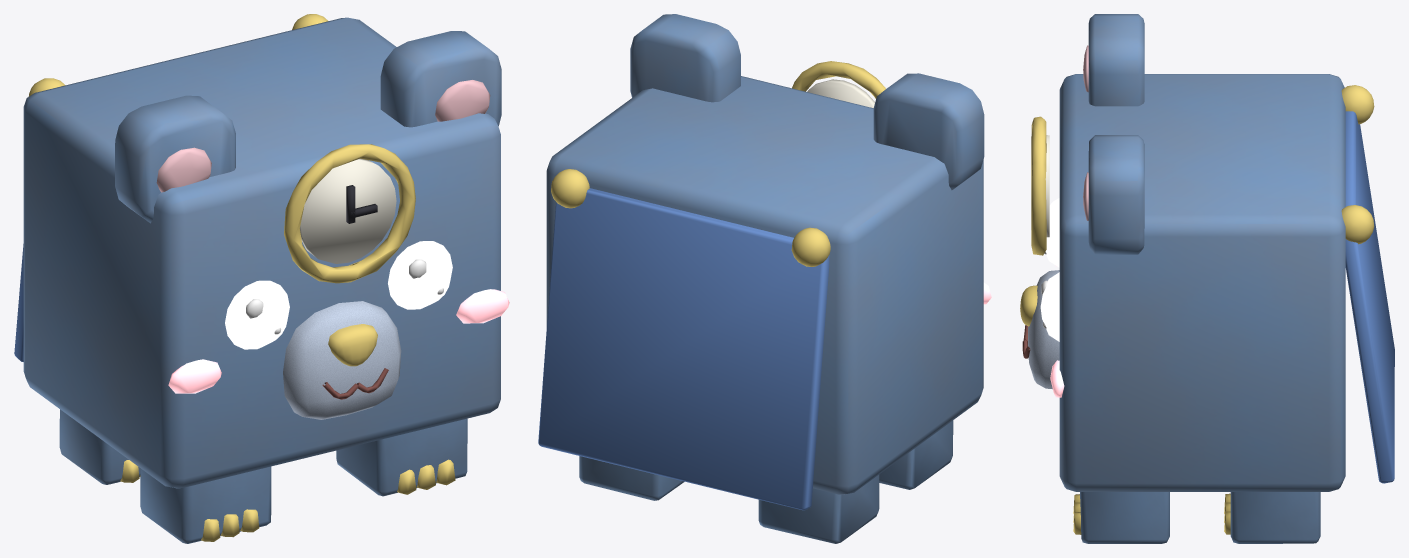
File: Pet_Chronos.fbx
The picture shows the model from 3 angles, left to right: view 1: azimuth 30°, elevation 25°; view 2: azimuth 150°, elevation 25°; view 3: azimuth 270°, elevation 25°; orthographic projection. The views are drawn at different scales.
Parts seen in each view (by area): view 1: Pet_Chronos_body, Pet_Chronos_ears, Pet_Chronos_feet, Pet_Chronos_muzzle, Pet_Chronos_acc_clock_face, Pet_Chronos_eyes, Pet_Chronos_acc_clock_ring, Pet_Chronos, Pet_Chronos_toes, Pet_Chronos_cute_innerear_-1, Pet_Chronos_nose, Pet_Chronos_cute_blush_-1 (+1 smaller); view 2: Pet_Chronos_body, Pet_Chronos_acc_cape, Pet_Chronos_ears, Pet_Chronos_feet, Pet_Chronos_acc_clock_ring, Pet_Chronos_acc_clasp-1, Pet_Chronos_acc_clasp1, Pet_Chronos_acc_clock_face; view 3: Pet_Chronos_body, Pet_Chronos_ears, Pet_Chronos_acc_cape, Pet_Chronos_feet, Pet_Chronos_acc_clock_ring, Pet_Chronos_muzzle, Pet_Chronos_eyes, Pet_Chronos_acc_clasp1, Pet_Chronos_acc_clasp-1, Pet_Chronos, Pet_Chronos_toes, Pet_Chronos_nose.
Part boxes in pixels (x1,y1,x2,y2): Pet_Chronos_body: [23, 17, 500, 488]; Pet_Chronos_ears: [115, 31, 501, 223]; Pet_Chronos_feet: [59, 409, 467, 543]; Pet_Chronos_muzzle: [283, 301, 401, 419]; Pet_Chronos_acc_clock_face: [300, 158, 396, 263]; Pet_Chronos_eyes: [225, 241, 452, 349]; Pet_Chronos_acc_clock_ring: [284, 144, 415, 283]; Pet_Chronos: [409, 80, 509, 323]; Pet_Chronos_toes: [120, 459, 455, 541]; Pet_Chronos_cute_innerear_-1: [156, 147, 211, 192]; Pet_Chronos_nose: [328, 324, 377, 366]; Pet_Chronos_cute_blush_-1: [168, 359, 221, 393]; Pet_Chronos_body: [546, 76, 983, 494]; Pet_Chronos_acc_cape: [538, 188, 829, 510]; Pet_Chronos_ears: [630, 14, 984, 190]; Pet_Chronos_feet: [579, 420, 953, 543]; Pet_Chronos_acc_clock_ring: [792, 61, 885, 98]; Pet_Chronos_acc_clasp-1: [791, 227, 830, 266]; Pet_Chronos_acc_clasp1: [551, 169, 589, 208]; Pet_Chronos_acc_clock_face: [807, 79, 875, 107]; Pet_Chronos_body: [1059, 74, 1345, 491]; Pet_Chronos_ears: [1088, 14, 1144, 254]; Pet_Chronos_acc_cape: [1345, 111, 1394, 483]; Pet_Chronos_feet: [1080, 492, 1320, 543]; Pet_Chronos_acc_clock_ring: [1031, 116, 1046, 255]; Pet_Chronos_muzzle: [1028, 270, 1059, 389]; Pet_Chronos_eyes: [1040, 198, 1059, 341]; Pet_Chronos_acc_clasp1: [1341, 205, 1374, 244]; Pet_Chronos_acc_clasp-1: [1341, 85, 1374, 124]; Pet_Chronos: [1041, 172, 1088, 397]; Pet_Chronos_toes: [1073, 493, 1230, 534]; Pet_Chronos_nose: [1020, 285, 1037, 326].
Bounding box in the file's own units: 2.35 × 2.61 × 2.25.
Materials: 14 (4 with a texture image).
